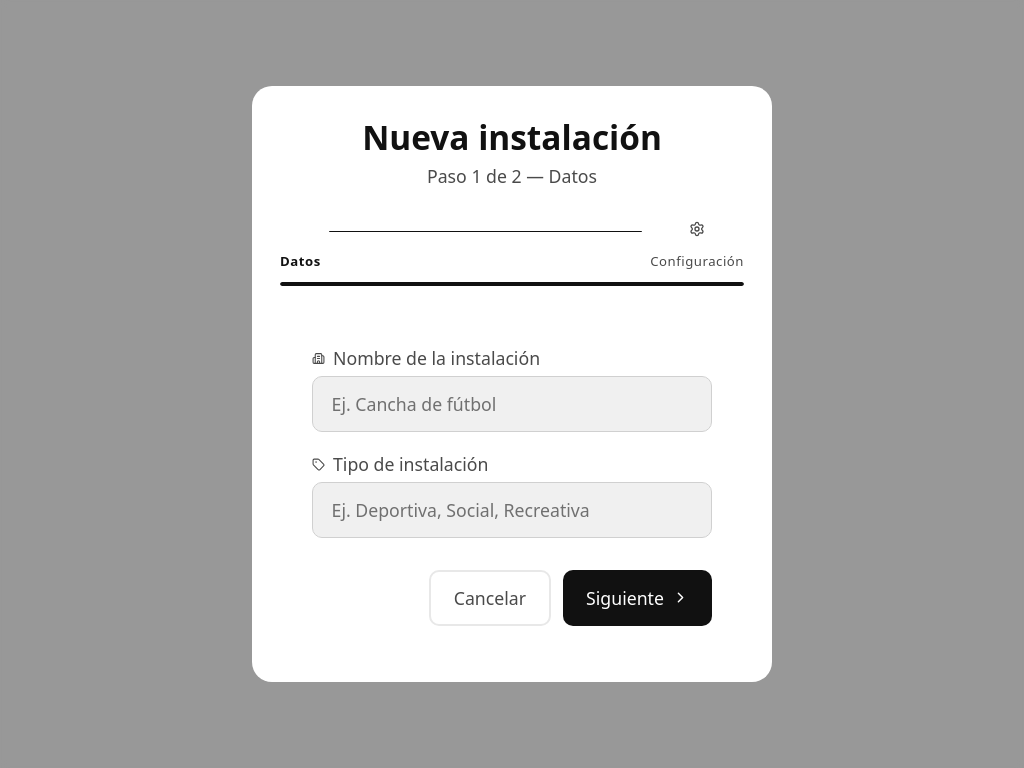
Test case: CreateInstalacionForm › avanza al paso 2 con nombre y tipo válidos
Type "Pileta" into the field with placeholder "Ej. Cancha de fútbol" at (512, 404), box [312,376,712,432]
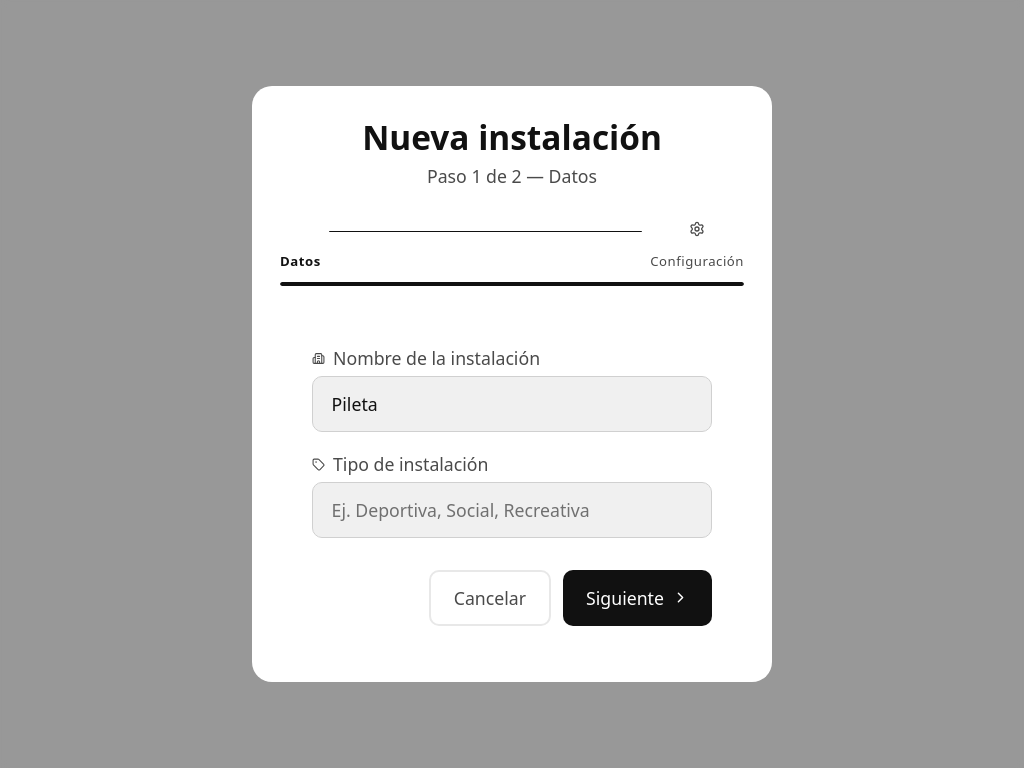
Type "Acuática" into the field with placeholder "Ej. Deportiva, Social, Recreativa" at (512, 510), box [312,482,712,538]
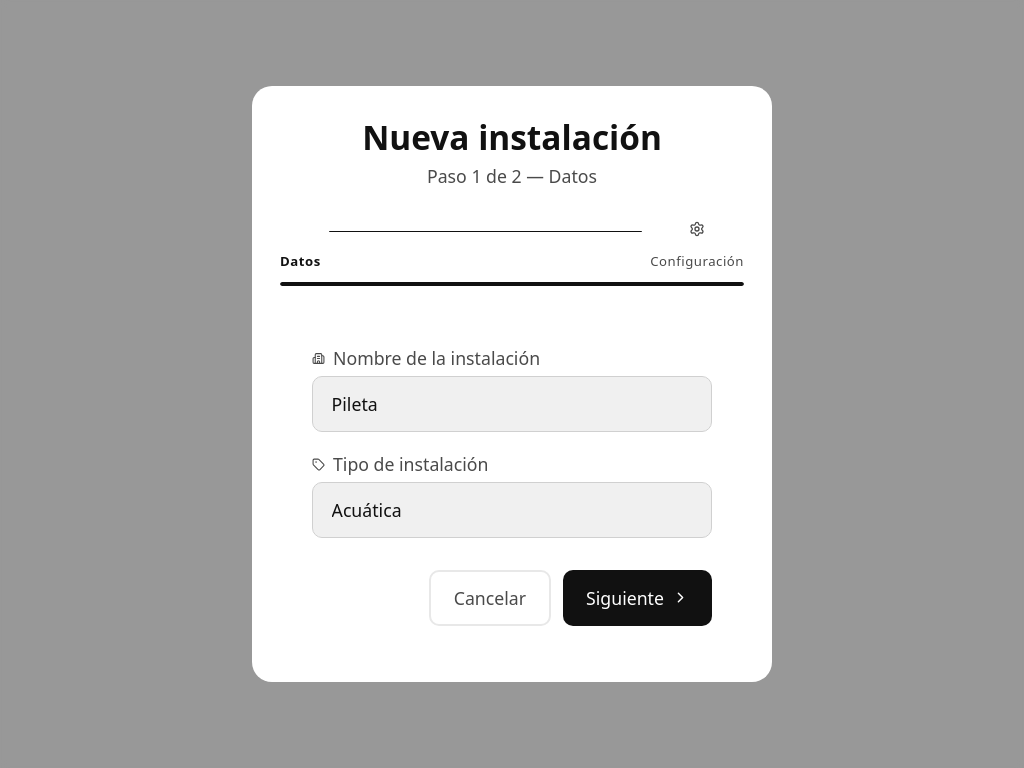
Click the button "Siguiente" at (638, 598), box [563,570,712,626]
Wait 300 ms
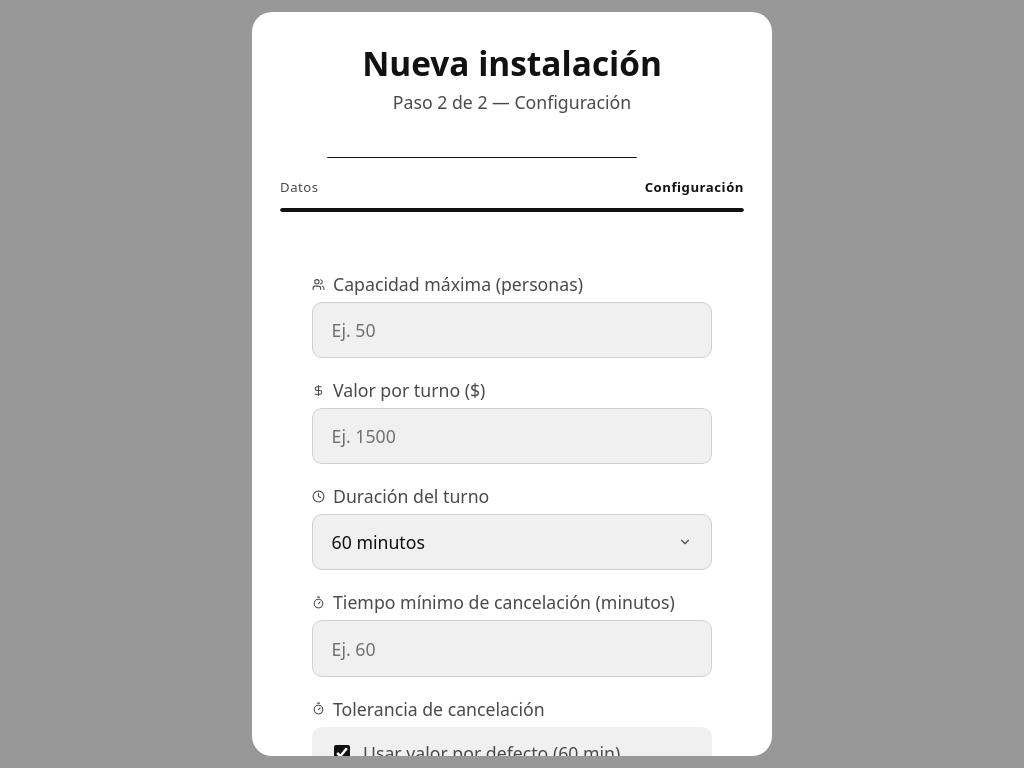
expect the text "Paso 2 de 2 — Configuración" is shown: met, box [393,90,631,114]
expect the number field with placeholder "Ej. 50" is shown: met, box [312,302,712,358]
expect the number field with placeholder "Ej. 1500" is shown: met, box [312,408,712,464]
